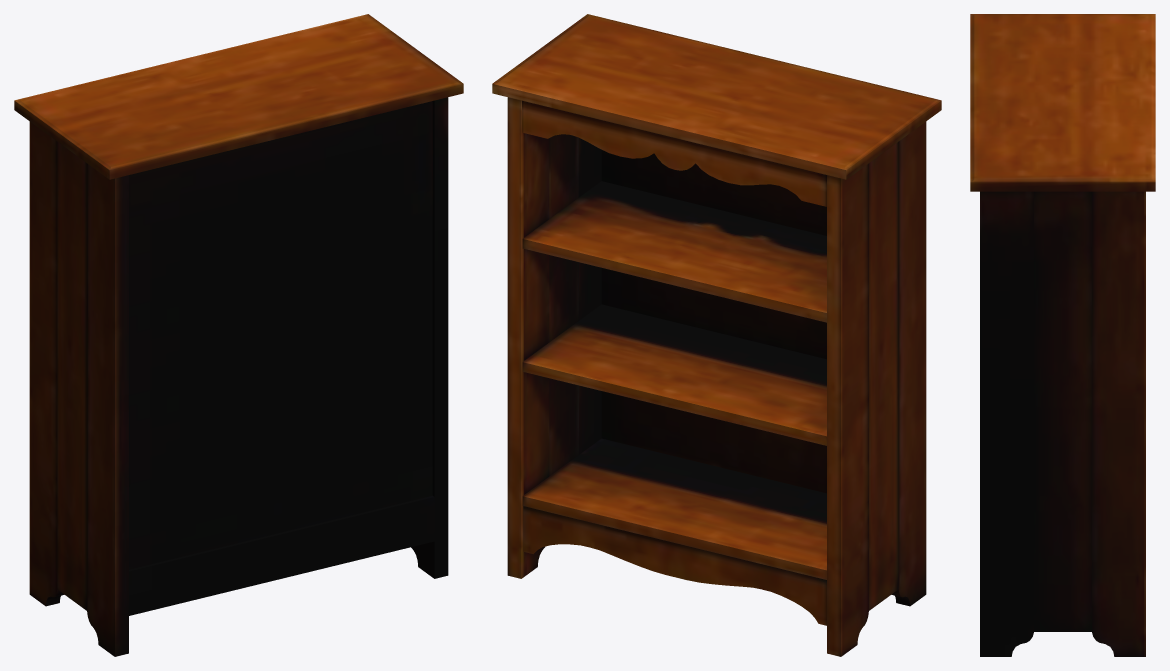
File: bookshelf.glb
The picture shows the model from 3 angles, left to right: view 1: azimuth 30°, elevation 25°; view 2: azimuth 150°, elevation 25°; view 3: azimuth 270°, elevation 25°; orthographic projection. The views are drawn at different scales.
Visible parts, largest first — view 1: body; view 2: body; view 3: body.
Boxes of the visible parts, x1,y1,x2,y2 form: body: (14, 14, 463, 656); body: (492, 14, 941, 656); body: (970, 14, 1155, 656).
Bounding box in the file's own units: 0.923 × 1.23 × 0.4305.
Materials: 1 (1 with a texture image).
